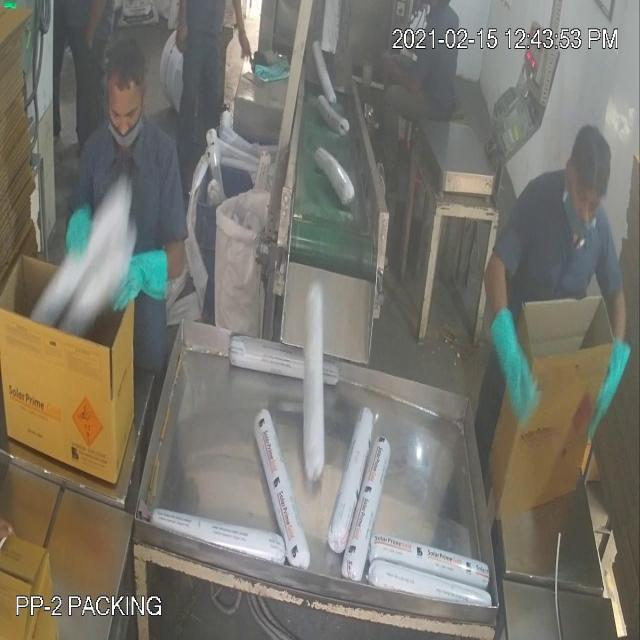gloves: (477, 295, 544, 432), (580, 322, 631, 466), (110, 244, 166, 314)
no-gloves: (384, 44, 426, 112), (223, 1, 255, 72), (85, 1, 112, 59), (170, 1, 192, 59)
